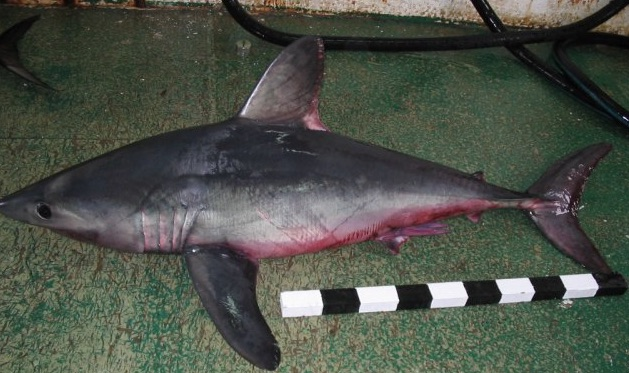shark: (7, 23, 620, 370)
